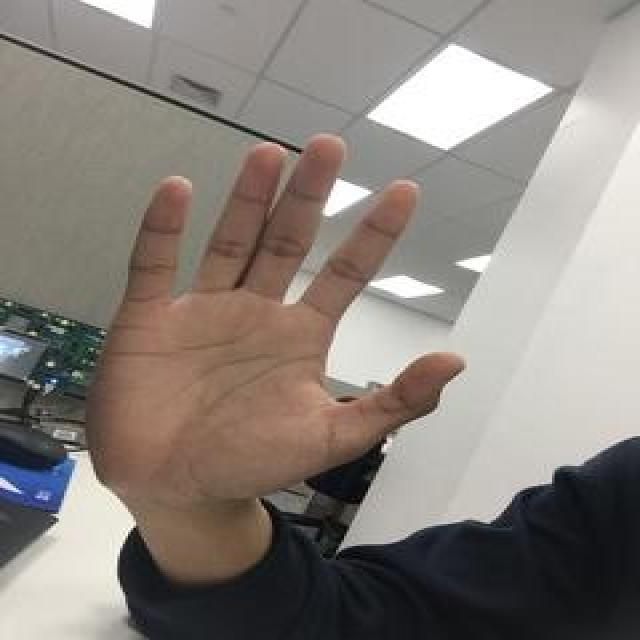hand: (82, 131, 466, 509)
